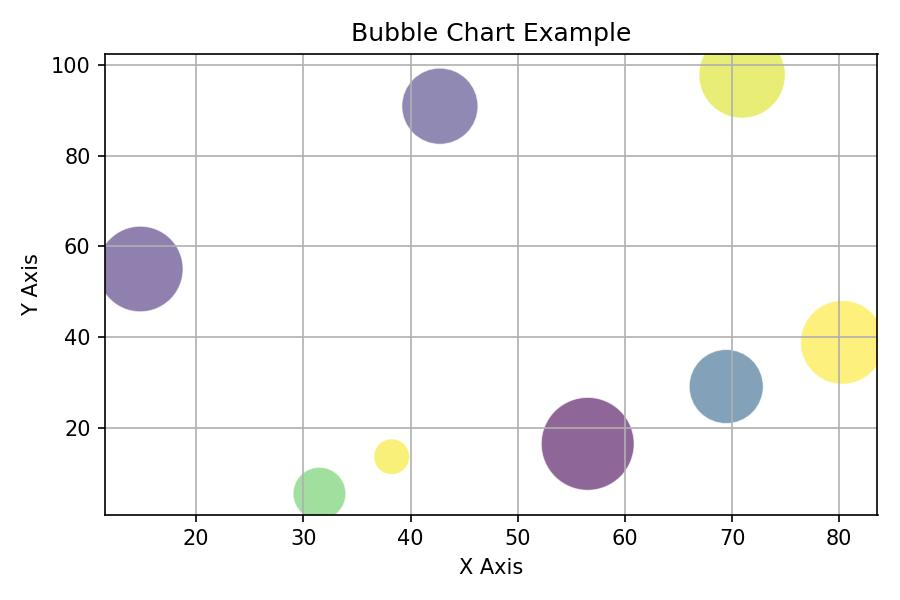axis: (96, 504, 880, 539), (85, 45, 113, 537)
circle: (541, 397, 637, 493), (105, 226, 186, 310), (396, 70, 480, 143), (694, 52, 789, 116), (804, 303, 879, 384), (689, 349, 766, 423), (294, 463, 345, 516), (374, 435, 413, 480)
